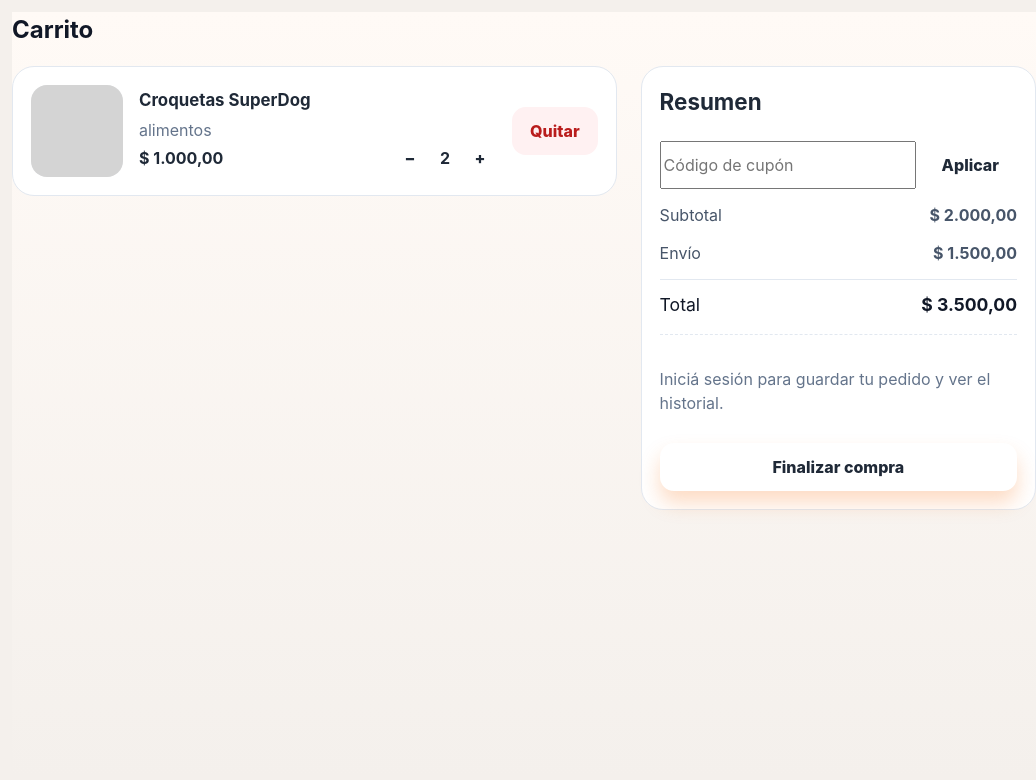
Test: CartScreen › applies a valid coupon and updates the total
Type "desc10" into the field with placeholder "Código de cupón" at x=788, y=165, box [660,141,916,189]
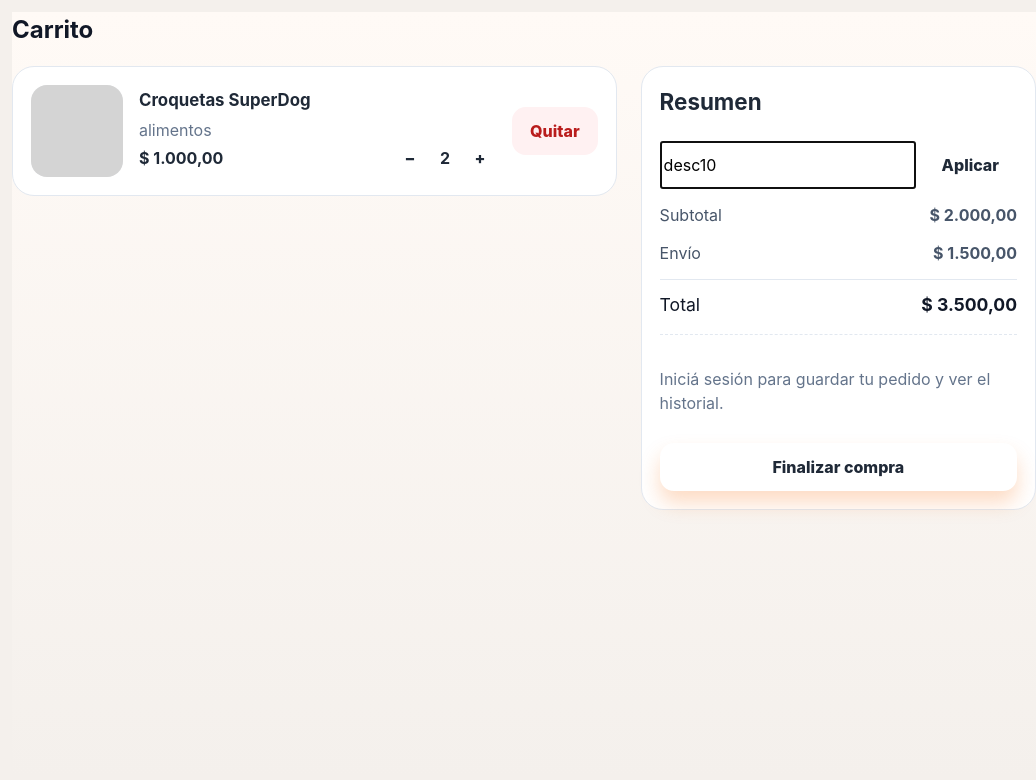
Click the button "Aplicar" at x=970, y=165, box [924,141,1017,189]
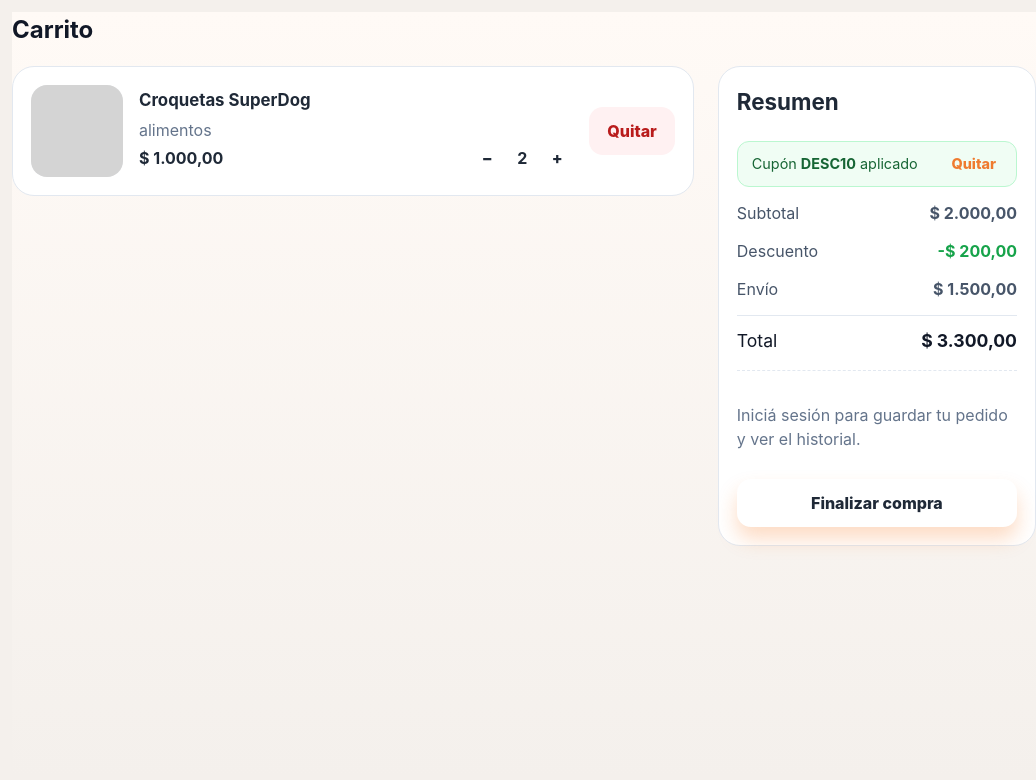
Result: the text "Cupón DESC10 aplicado" is shown at [752,153,918,175]
Result: the text "-$ 200,00" is shown at [938,239,1017,263]
Result: the text "$ 3.300,00" is shown at [921,328,1017,354]
